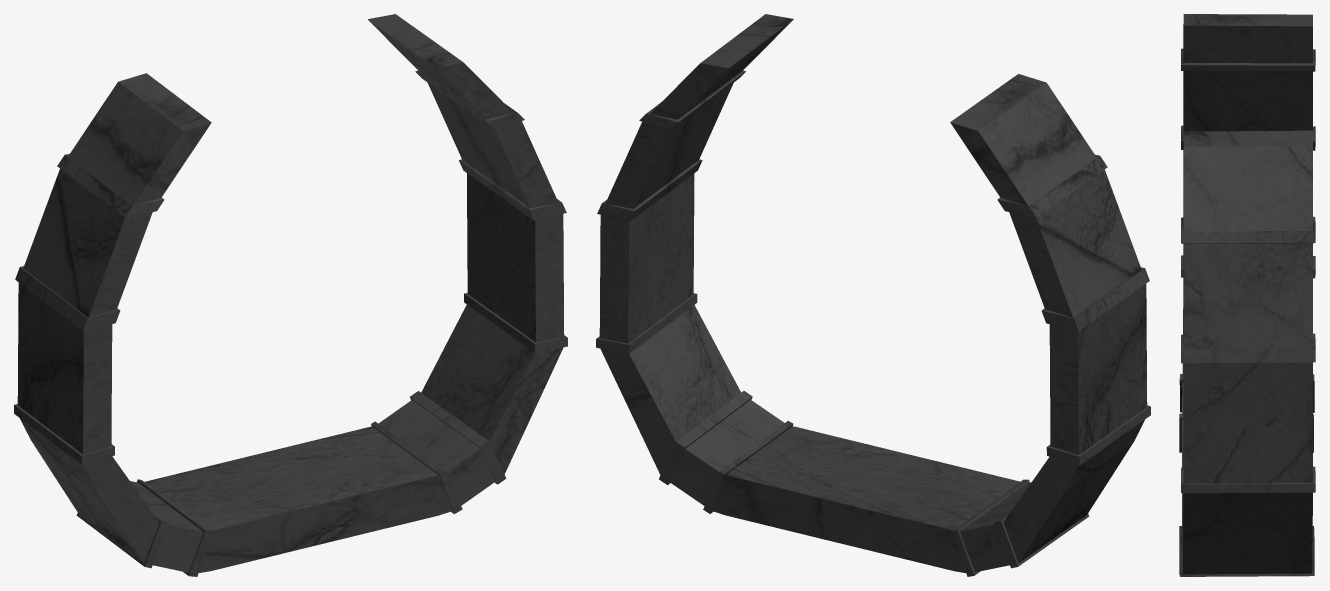
The model's file is portal.fbx.
3 renders of one model, left to right at view 1: azimuth 30°, elevation 25°; view 2: azimuth 150°, elevation 25°; view 3: azimuth 270°, elevation 25°, orthographic. The views are drawn at different scales.
Visible parts, largest first — view 1: pCube1; view 2: pCube1; view 3: pCube1.
Part boxes in pixels (x1=…): pCube1: x1=14, y1=14, x2=567, y2=576; pCube1: x1=596, y1=14, x2=1150, y2=576; pCube1: x1=1179, y1=14, x2=1315, y2=576.
Bounding box in the file's own units: 4.2 × 3.71 × 1.05.
Materials: 2 (2 with a texture image).
